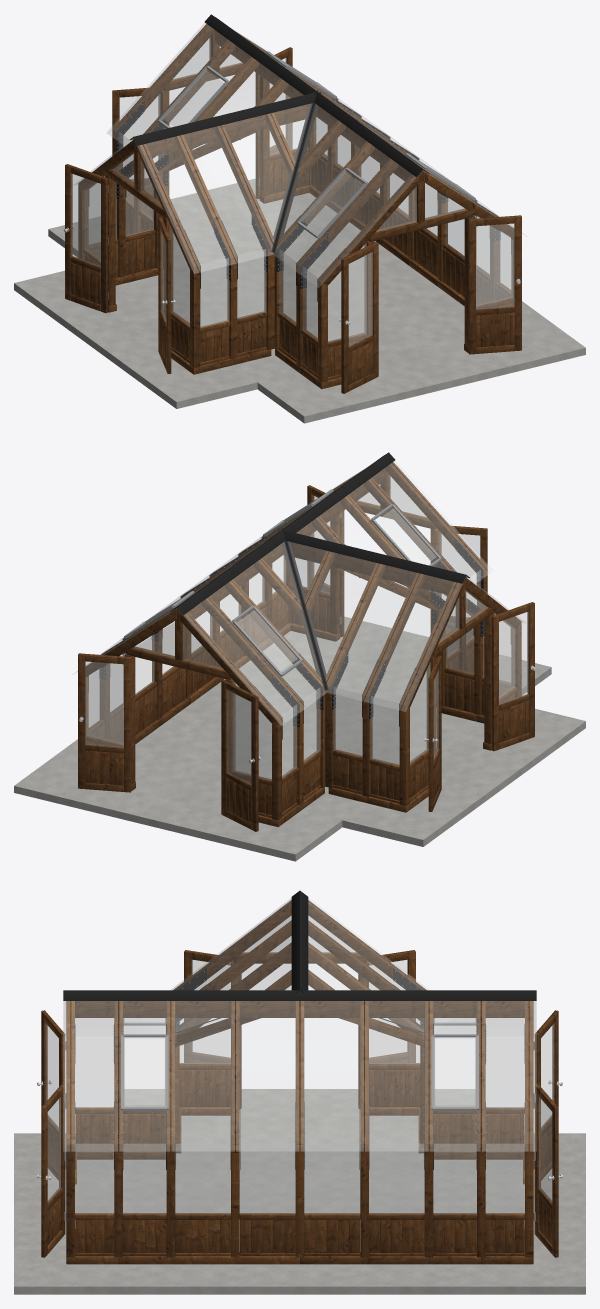
Rendered from nordwood-tshape.glb.
The picture shows the model from 3 angles, top to bottom: view 1: azimuth 30°, elevation 25°; view 2: azimuth 150°, elevation 25°; view 3: azimuth 270°, elevation 25°; orthographic projection. The views are drawn at different scales.
Visible parts, largest first — view 1: nordwood-tshape; view 2: nordwood-tshape; view 3: nordwood-tshape.
Part boxes in pixels (x1,y1,x2,y2): nordwood-tshape: (14, 14, 585, 423); nordwood-tshape: (14, 452, 585, 861); nordwood-tshape: (14, 890, 585, 1294).
Bounding box in the file's own units: 5.43 × 2.91 × 6.64.
9 materials, 4 textured.
